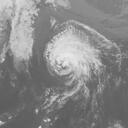cyclone: (43, 26, 103, 87)
